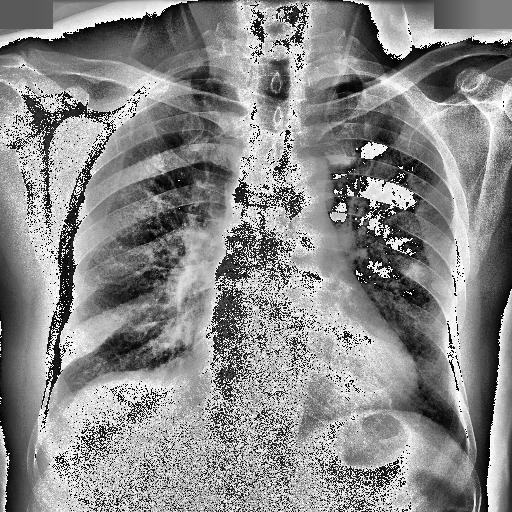0- Aortic enlargement: (269, 152, 335, 214), (268, 158, 332, 202)
11- Pleural thickening: (169, 66, 235, 82), (309, 75, 360, 93)
3- Cardiomegaly: (183, 318, 427, 424), (192, 316, 418, 410), (188, 330, 416, 412)
9- Other lesion: (63, 318, 116, 357), (66, 320, 120, 358)
